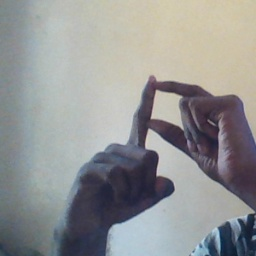D: (95, 66, 244, 203)
